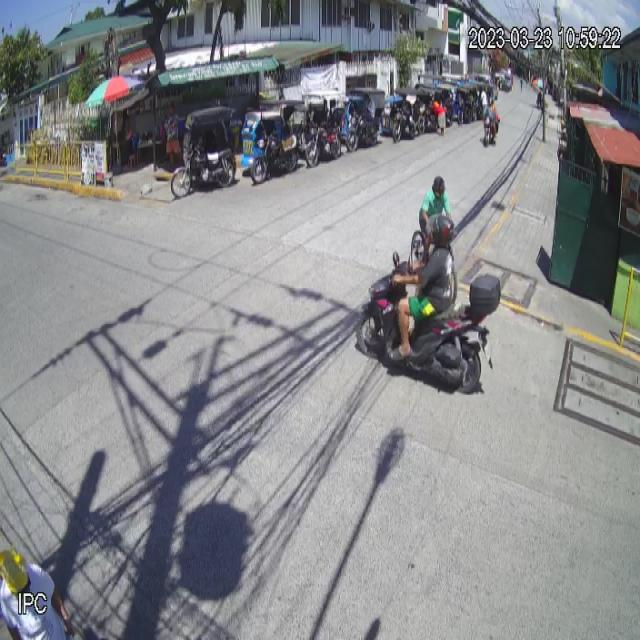Motorcycle: (356, 251, 501, 394)
